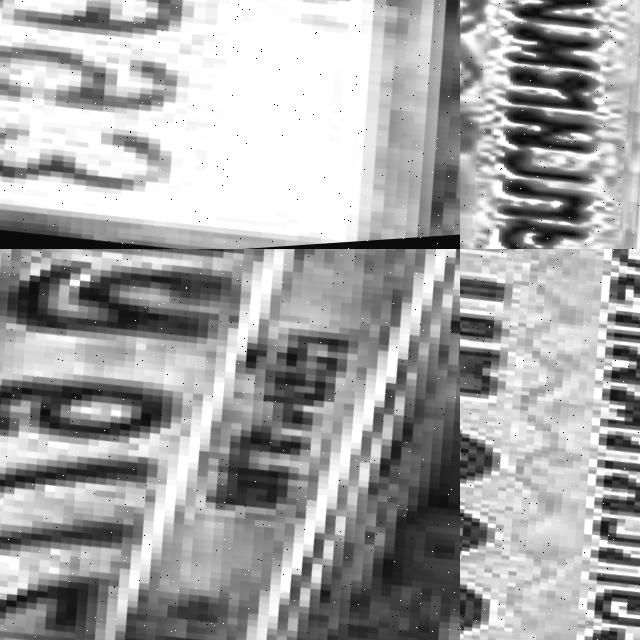license-plate: (0, 249, 460, 640), (0, 0, 460, 249), (460, 249, 640, 640), (460, 0, 640, 249)
